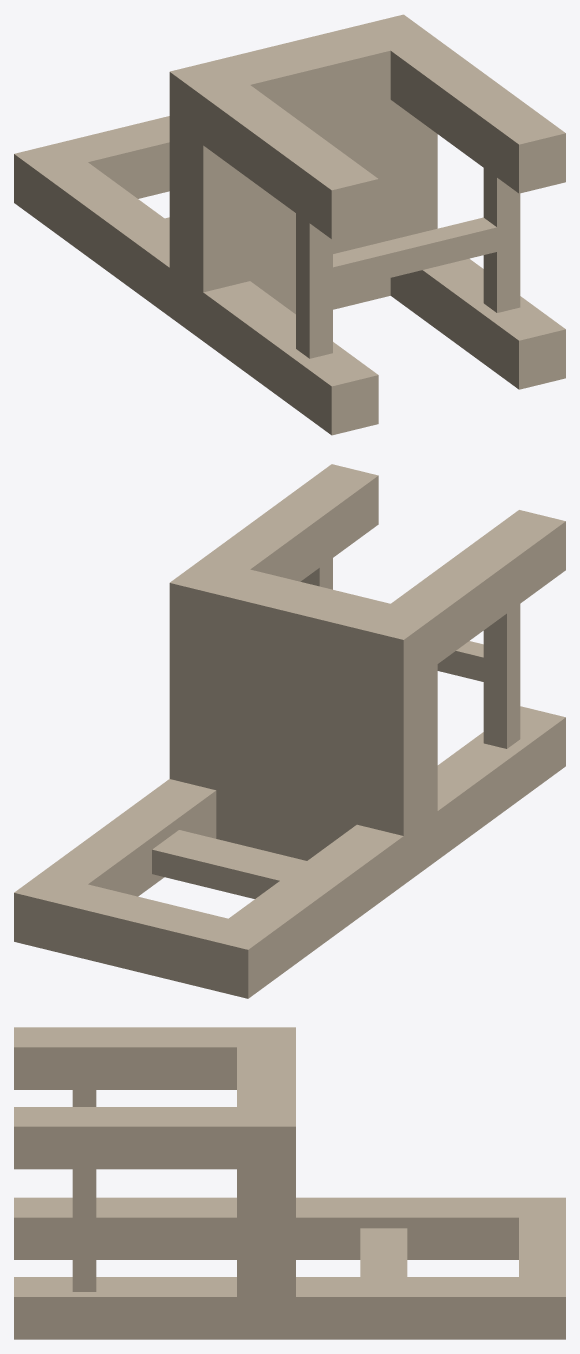
File: weapon_chair.glb
3 views of the same model, one above another, from view 1: azimuth 30°, elevation 25°; view 2: azimuth 150°, elevation 25°; view 3: azimuth 270°, elevation 25° (orthographic). The views are drawn at different scales.
Visible parts, largest first — view 1: weapon_chair; view 2: weapon_chair; view 3: weapon_chair.
Part boxes in pixels (<box>): weapon_chair: <box>14,14,565,435</box>; weapon_chair: <box>14,464,565,998</box>; weapon_chair: <box>14,1027,565,1339</box>.
Bounding box in the file's own units: 14.47 × 14.47 × 34.
